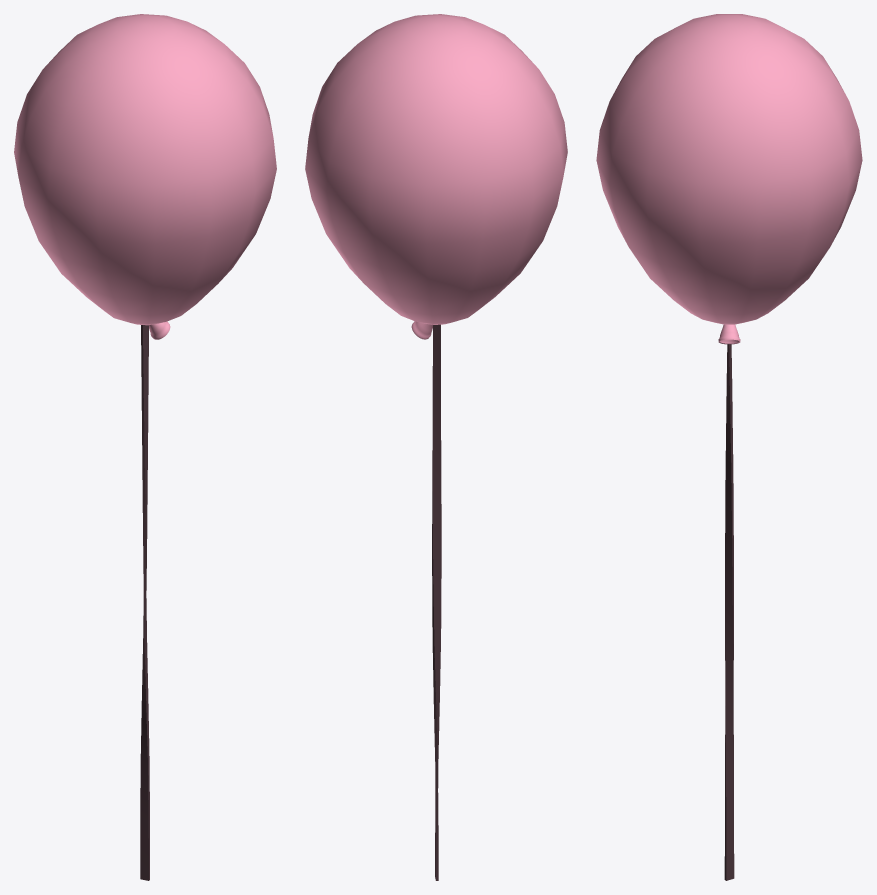
File: ピンク.fbx
The picture shows the model from 3 angles, left to right: view 1: azimuth 30°, elevation 25°; view 2: azimuth 150°, elevation 25°; view 3: azimuth 270°, elevation 25°; orthographic projection.
Parts seen in each view (by area): view 1: obj1, obj2; view 2: obj1, obj2; view 3: obj1, obj2.
Part boxes in pixels (bbox=[...]): obj1: bbox=[14, 14, 276, 339]; obj2: bbox=[140, 325, 149, 880]; obj1: bbox=[305, 14, 567, 339]; obj2: bbox=[432, 324, 441, 880]; obj1: bbox=[596, 14, 862, 344]; obj2: bbox=[724, 344, 734, 880].
Bounding box in the file's own units: 195 × 709 × 200.
Materials: 1 (1 with a texture image).
